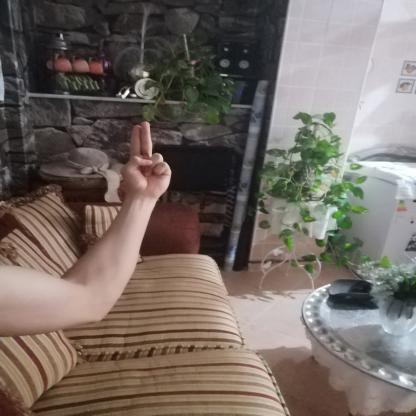TA: (113, 112, 177, 204)
